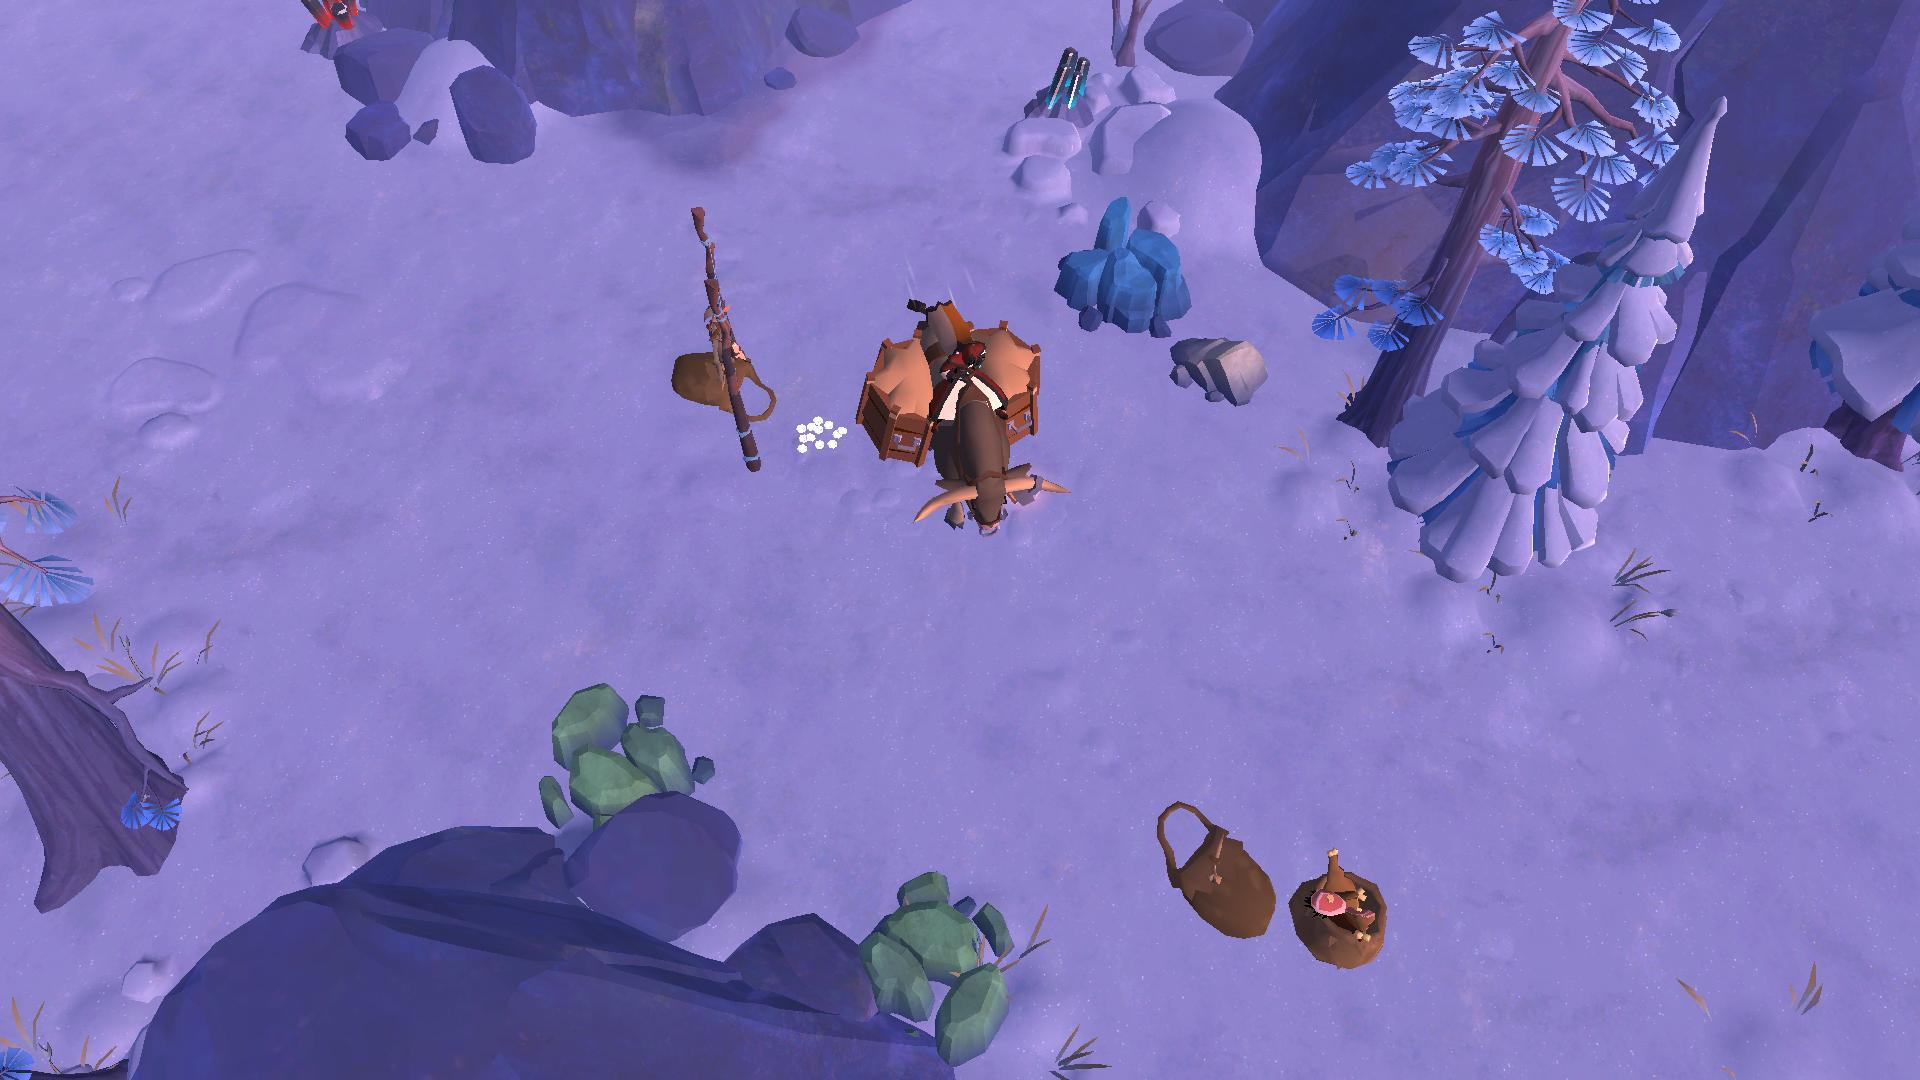ore_t4: (1043, 45, 1093, 120)
rock_t3: (845, 862, 1026, 1072), (531, 663, 715, 836)
rock_t4: (1047, 193, 1192, 340)
